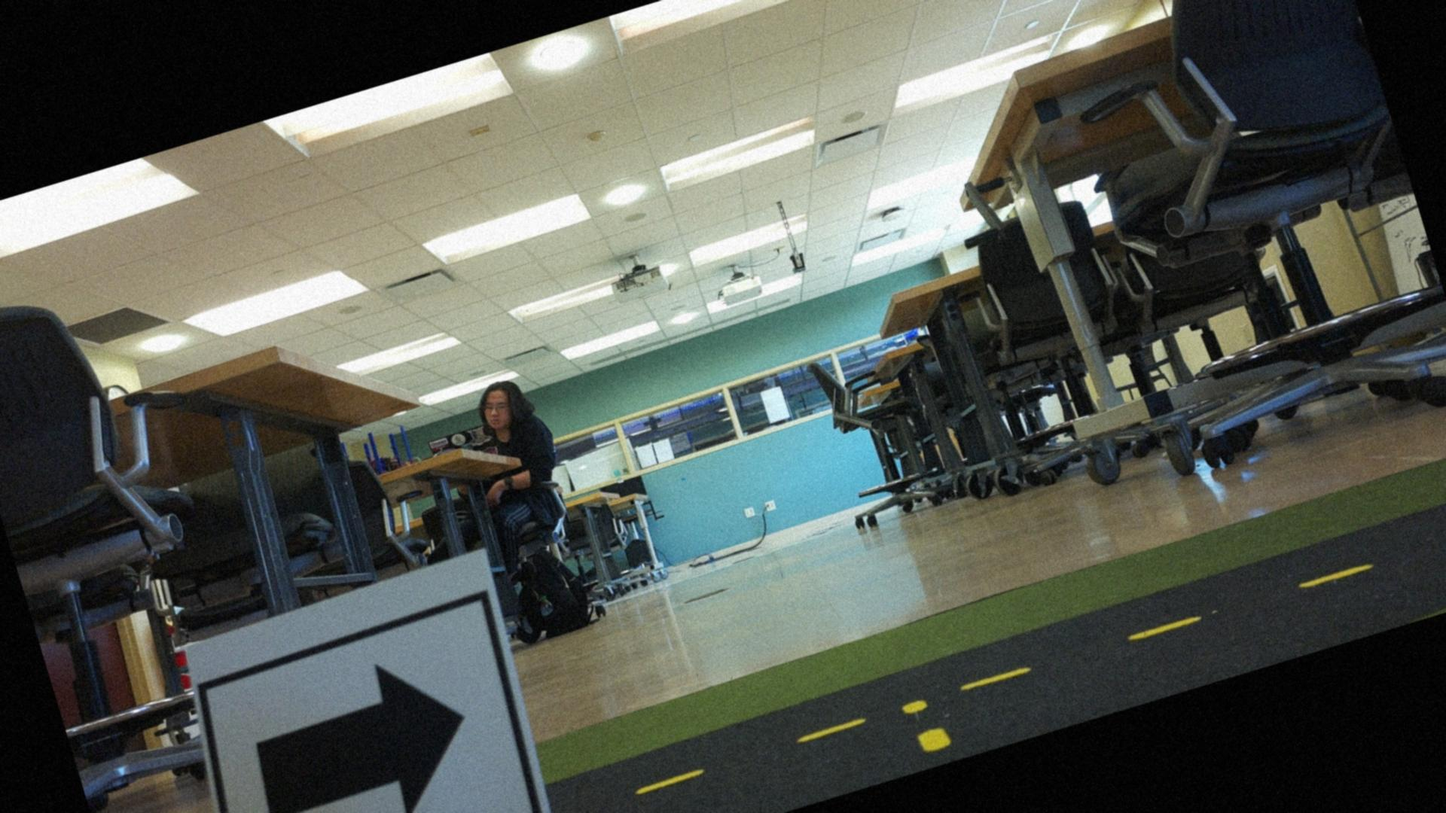turnright: (198, 604, 550, 812)
yellowline: (632, 517, 1445, 797), (900, 693, 956, 760)
